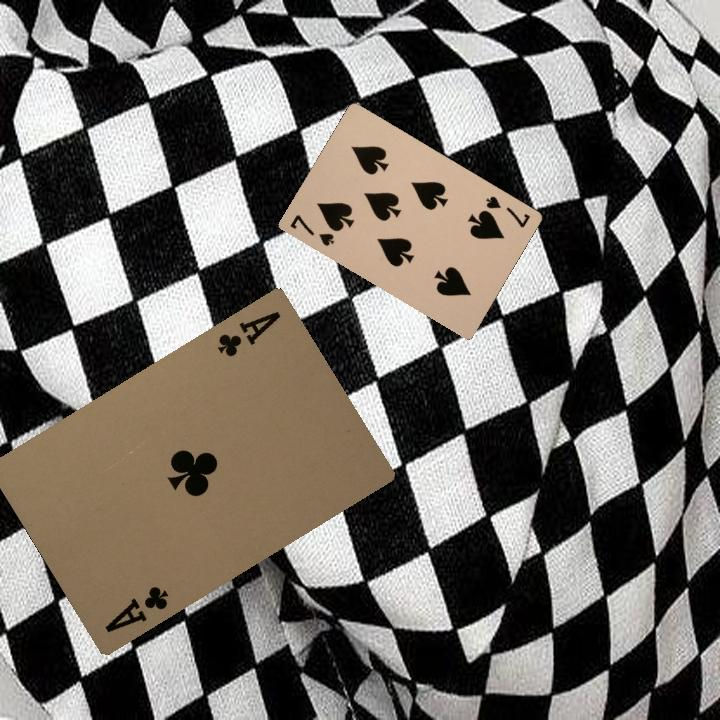7s: (286, 210, 337, 249), (481, 192, 533, 230)
Ac: (101, 581, 171, 635), (213, 307, 284, 360)
